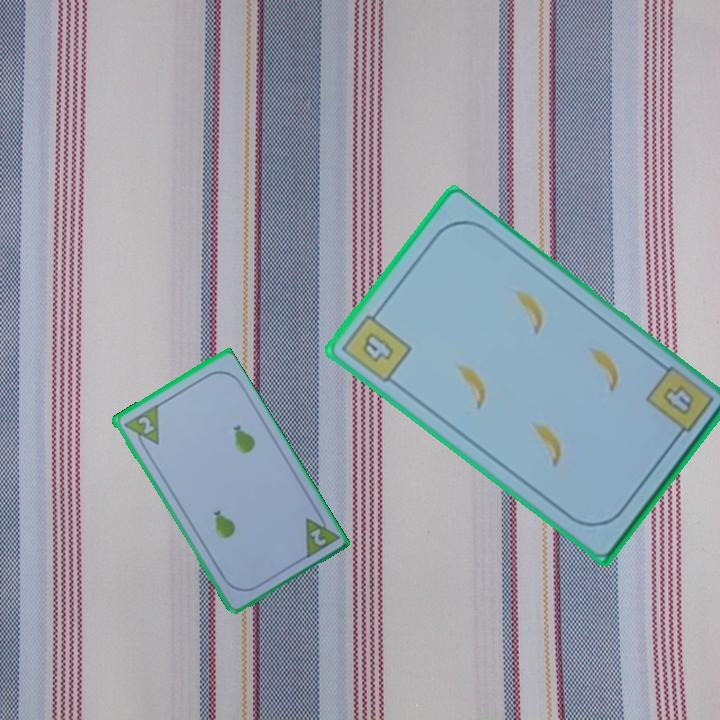2p: (119, 402, 162, 454), (306, 524, 329, 549)
4b: (337, 304, 415, 386), (658, 382, 697, 419)
